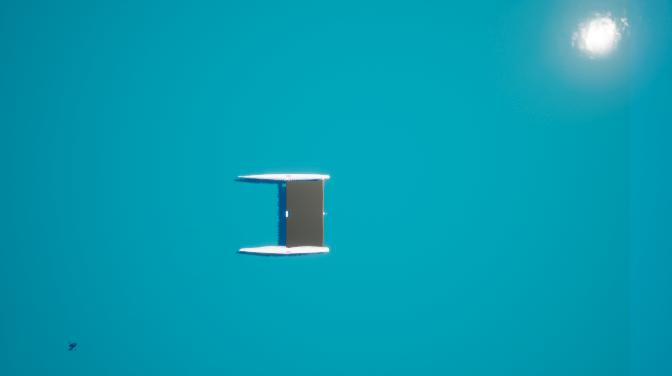boat: (232, 171, 333, 259)
drone: (67, 339, 78, 356)
land_base: (288, 181, 323, 247)
light_reflex: (534, 0, 663, 96)
